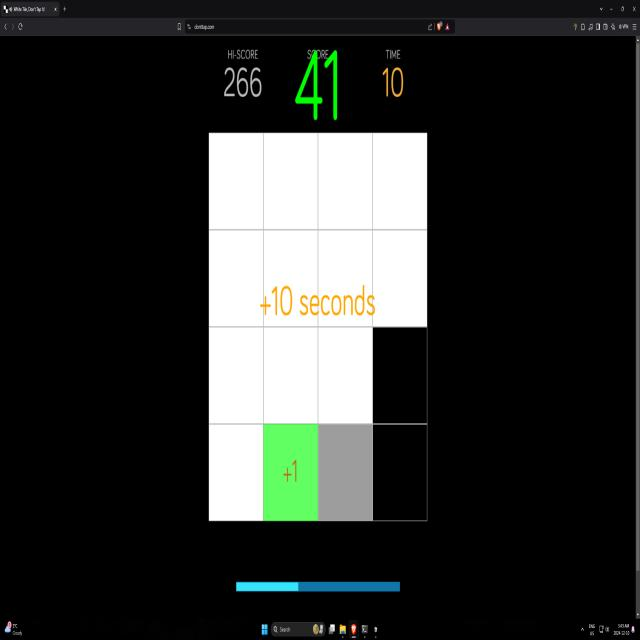black-tile: (372, 421, 428, 522), (372, 326, 429, 424)
